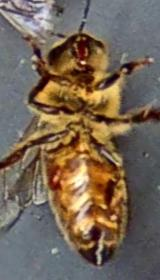varroa_mite: (42, 166, 64, 191)
